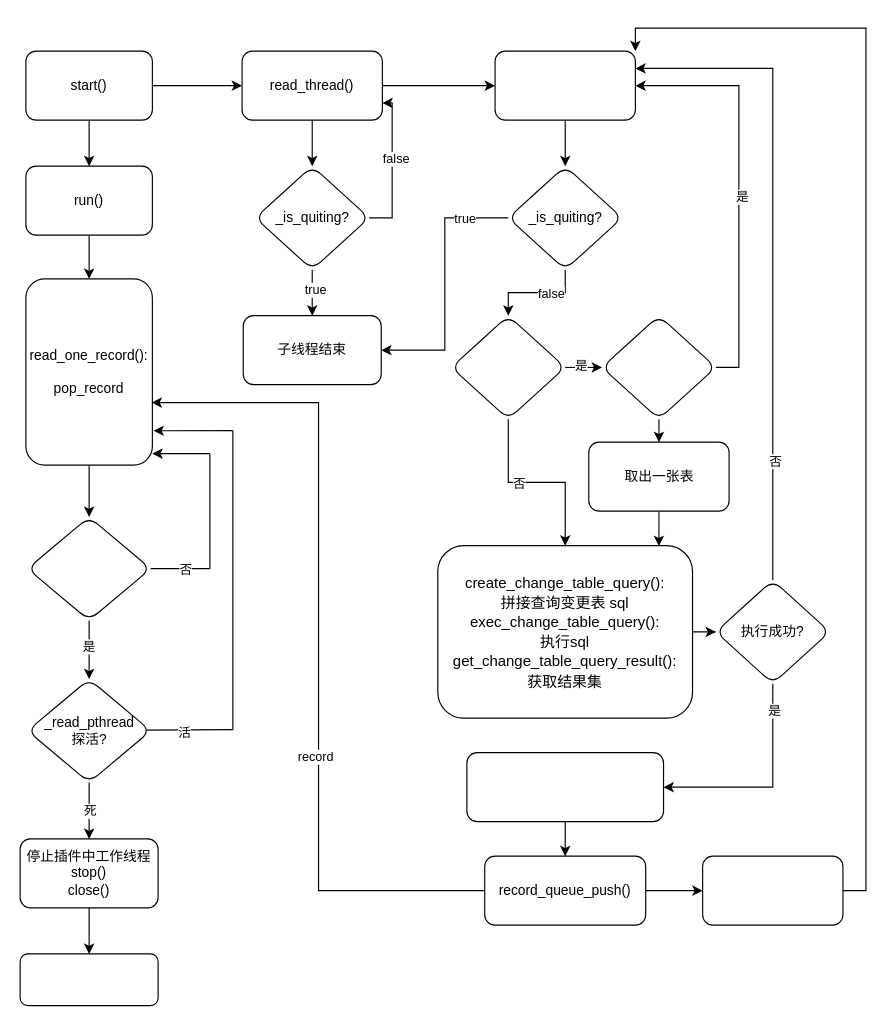
This 896x1035 diagram has some shape labels left out. Here are the shapes that lost their labels. From the top down, the centre of each, then its label:
At pixel 564 85: "_parallel 个线程 worker()".
At pixel 507 367: "当前 task (表) 为空?".
At pixel 658 367: "_task_list 为空?".
At pixel 88 568: "_queue_record == 0?".
At pixel 565 787: "make_databus_record()".
At pixel 772 890: "当前表重新放入 _task_list".
At pixel 88 979: "disconnect():".
